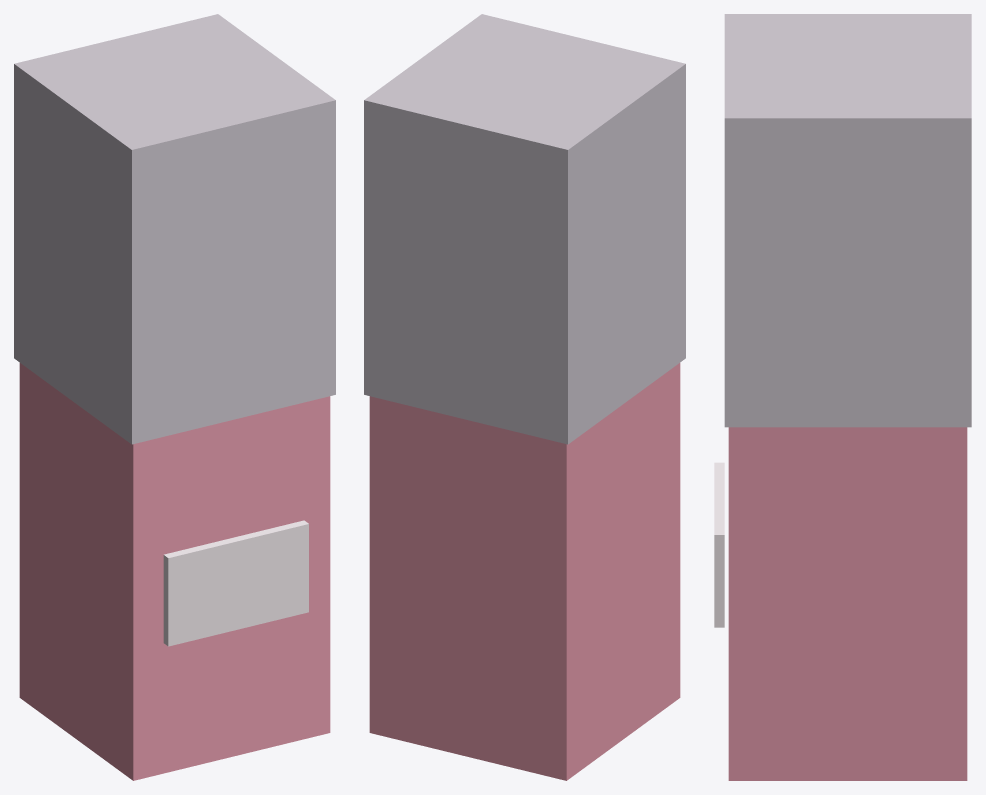
The model's file is TRD-01-06.glb.
3 views of the same model, side by side, from view 1: azimuth 30°, elevation 25°; view 2: azimuth 150°, elevation 25°; view 3: azimuth 270°, elevation 25° (orthographic). The views are drawn at different scales.
Parts seen in each view (by area): view 1: TRD-01-06; view 2: TRD-01-06; view 3: TRD-01-06.
Part boxes in pixels (<box>): TRD-01-06: <box>14,14,335,780</box>; TRD-01-06: <box>364,14,685,780</box>; TRD-01-06: <box>714,14,971,780</box>.
Size of the model in its own units: 0.29 by 0.86 by 0.302.
